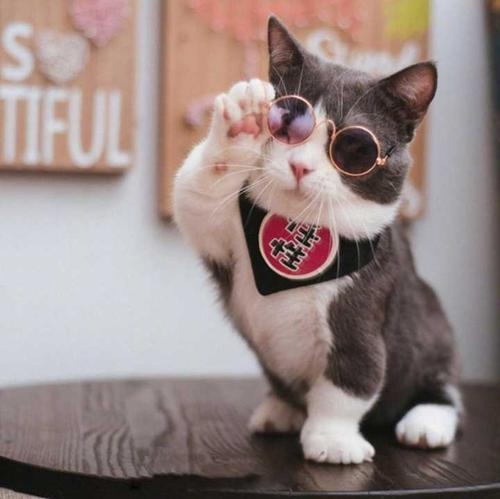cat: (201, 20, 445, 262)
